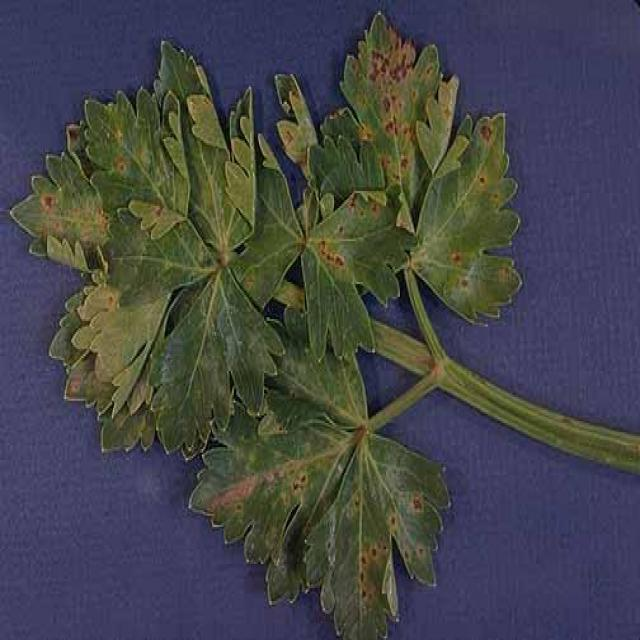blight: (365, 28, 433, 164)
